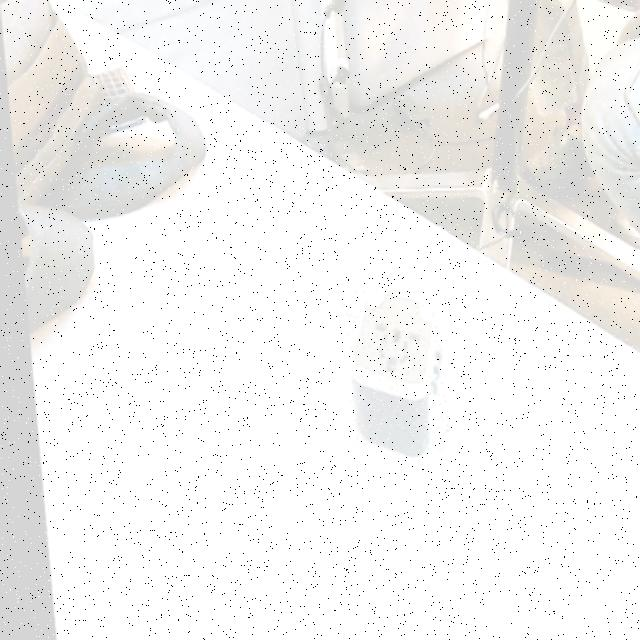adapter: (335, 287, 443, 456)
